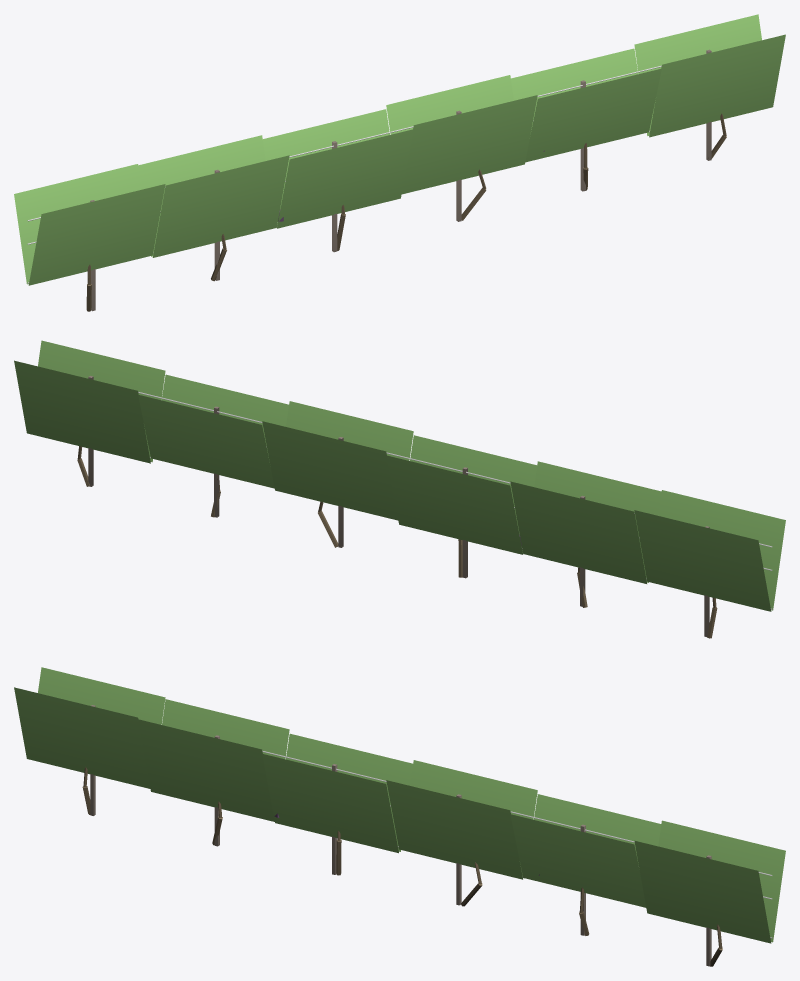
File: vine_row_0.glb
The picture shows the model from 3 angles, top to bottom: view 1: azimuth 30°, elevation 25°; view 2: azimuth 150°, elevation 25°; view 3: azimuth 330°, elevation 25°; orthographic projection.
Parts seen in each view (by area): view 1: vine_row_0; view 2: vine_row_0; view 3: vine_row_0.
Part boxes in pixels (<box>): vine_row_0: <box>14,14,785,311</box>; vine_row_0: <box>14,340,785,638</box>; vine_row_0: <box>14,667,785,966</box>.
Size of the model in its own units: 10 by 1.58 by 0.64.
